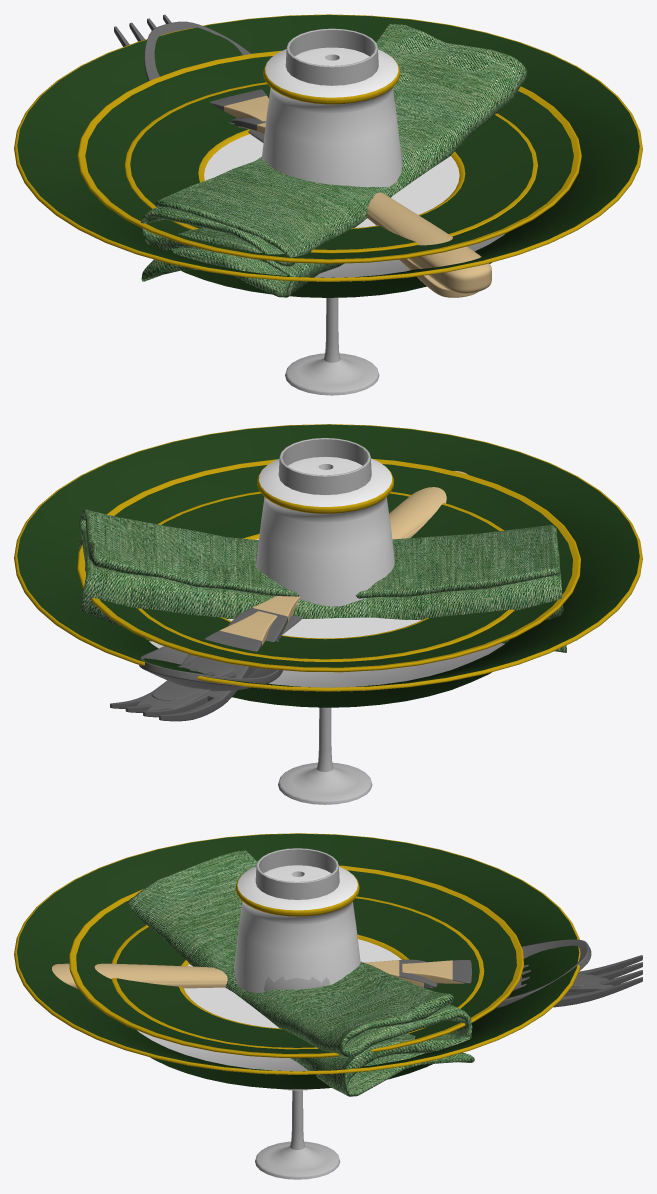
File: DinningSet.fbx
3 views of the same model, one above another, from view 1: azimuth 30°, elevation 25°; view 2: azimuth 150°, elevation 25°; view 3: azimuth 270°, elevation 25° (orthographic). The views are drawn at different scales.
Parts seen in each view (by area): view 1: Big plate, napkin, Shmall plate, Soup plate, Salt, glass01, Knife, Knife01, fork, Table spoon, pepper; view 2: Big plate, napkin, Soup plate, Shmall plate, Salt, glass01, fork, Knife01, Table spoon, pepper, fork01, Knife; view 3: Big plate, napkin, Soup plate, Shmall plate, Salt, glass01, fork, Knife01, pepper, Knife, Table spoon, fork01 (+1 smaller).
Boxes of the visible parts, x1=… form: Big plate: x1=14, y1=14, x2=642, y2=297; napkin: x1=140, y1=24, x2=527, y2=297; Shmall plate: x1=124, y1=82, x2=537, y2=253; Soup plate: x1=77, y1=50, x2=581, y2=263; Salt: x1=262, y1=47, x2=402, y2=187; glass01: x1=285, y1=28, x2=379, y2=395; Knife: x1=250, y1=134, x2=491, y2=293; Knife01: x1=248, y1=129, x2=468, y2=256; fork: x1=114, y1=14, x2=419, y2=269; Table spoon: x1=144, y1=21, x2=477, y2=297; pepper: x1=263, y1=55, x2=400, y2=113; Big plate: x1=14, y1=424, x2=642, y2=707; napkin: x1=78, y1=509, x2=566, y2=652; Soup plate: x1=77, y1=459, x2=580, y2=672; Shmall plate: x1=137, y1=491, x2=514, y2=661; Salt: x1=256, y1=456, x2=394, y2=606; glass01: x1=278, y1=438, x2=372, y2=804; fork: x1=110, y1=603, x2=297, y2=721; Knife01: x1=151, y1=487, x2=446, y2=700; Table spoon: x1=139, y1=615, x2=291, y2=691; pepper: x1=257, y1=464, x2=393, y2=522; fork01: x1=177, y1=596, x2=299, y2=677; Knife: x1=136, y1=471, x2=467, y2=710; Big plate: x1=14, y1=833, x2=580, y2=1089; napkin: x1=127, y1=850, x2=474, y2=1096; Soup plate: x1=69, y1=865, x2=523, y2=1057; Shmall plate: x1=111, y1=896, x2=484, y2=1049; Salt: x1=234, y1=865, x2=360, y2=992; glass01: x1=255, y1=848, x2=340, y2=1179; fork: x1=402, y1=955, x2=642, y2=1007; Knife01: x1=94, y1=963, x2=586, y2=987; pepper: x1=235, y1=872, x2=359, y2=924; Knife: x1=52, y1=963, x2=612, y2=991; Table spoon: x1=428, y1=939, x2=591, y2=1008; fork01: x1=364, y1=959, x2=530, y2=990.
Bounding box in the file's own units: 4061 × 2341 × 4496.
11 materials, 1 textured.
